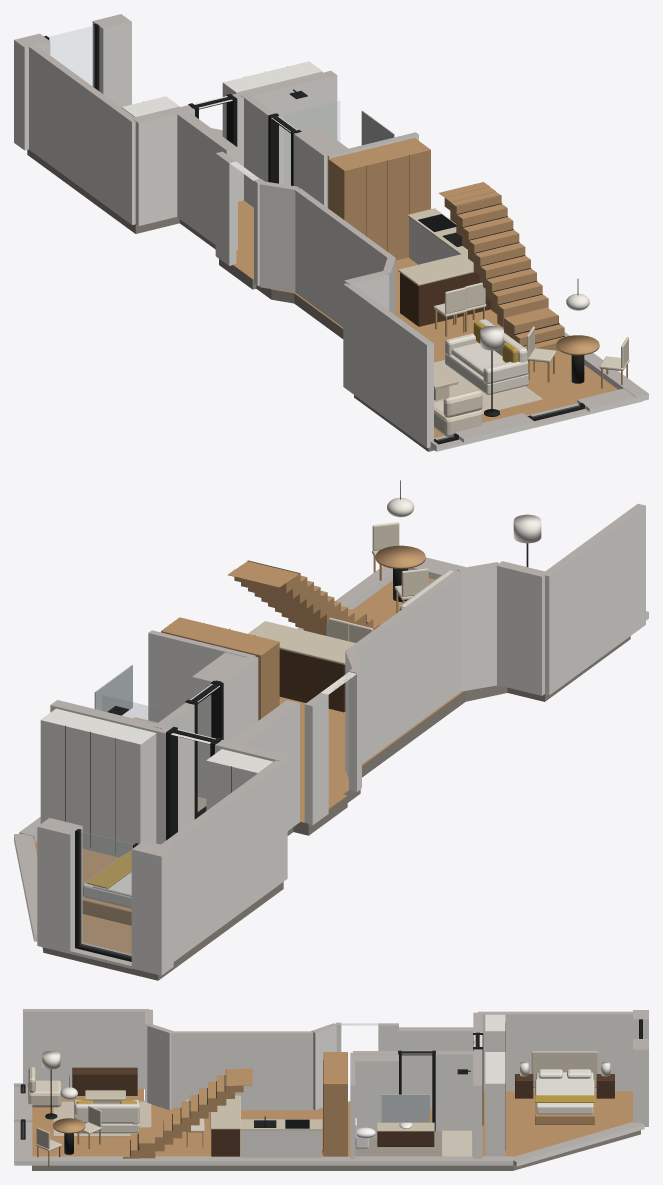
The picture shows the model from 3 angles, top to bottom: view 1: azimuth 30°, elevation 25°; view 2: azimuth 150°, elevation 25°; view 3: azimuth 270°, elevation 25°; orthographic projection. The views are drawn at different scales.
Parts seen in each view (by area): view 1: Wall W-bed1, Wall W-living, Kitchen tall units | body, Wall stairwell-2, Floor | living, Wall bed1-S.001, Wall lift-E, Wall bed1-S, Wall stairwell-1, Wall N-facade.001, Peninsula | body, Wall entry (+38 smaller); view 2: Wall W-bed1, bed1 wardrobe 2 | body, Wall W-living, Wall stairwell-2, Wall stairwell-4, N-facade window 0 | glazing, Wall N-facade, Wall N-facade.001, Wall stairwell-3, Wall shaft, Wall bath1-S, Kitchen tall units | body (+24 smaller); view 3: Wall stairwell-2, Wall W-living, Wall W-bed1, Wall E-party, Floor | living, Floor | bed1, Wall lift-E, Wall bath1-W, Wall shaft, Kitchen tall units | body, Kitchen run | bases, bed1 wardrobe 2 | body (+50 smaller).
Part boxes in pixels (x1,y1,x2,y2): Wall W-bed1: (29, 45, 135, 224); Wall W-living: (343, 283, 433, 447); Kitchen tall units | body: (328, 138, 430, 260); Wall stairwell-2: (295, 188, 394, 327); Floor | living: (270, 257, 617, 437); Wall bed1-S.001: (232, 70, 337, 201); Wall lift-E: (177, 111, 237, 250); Wall bed1-S: (133, 105, 194, 225); Wall stairwell-1: (259, 181, 298, 292); Wall N-facade.001: (92, 14, 131, 107); Peninsula | body: (400, 272, 491, 326); Wall entry: (215, 151, 236, 265); Wall W-bed1: (161, 758, 287, 961); bed1 wardrobe 2 | body: (40, 708, 156, 857); Wall W-living: (544, 503, 645, 695); Wall stairwell-2: (346, 570, 461, 763); Wall stairwell-4: (496, 561, 548, 695); N-facade window 0 | glazing: (80, 831, 133, 956); Wall N-facade: (131, 840, 173, 975); Wall N-facade.001: (37, 818, 82, 953); Wall stairwell-3: (457, 562, 498, 691); Wall shaft: (192, 652, 258, 798); Wall bath1-S: (148, 630, 255, 722); Kitchen tall units | body: (161, 617, 279, 720); Wall stairwell-2: (171, 1031, 313, 1110); Wall W-living: (23, 1009, 148, 1089); Wall W-bed1: (478, 1011, 632, 1091); Wall E-party: (14, 1156, 513, 1165); Floor | living: (32, 1088, 350, 1156); Floor | bed1: (482, 1091, 632, 1156); Wall lift-E: (399, 1027, 473, 1108); Wall bath1-W: (435, 1051, 477, 1131); Wall shaft: (355, 1054, 398, 1138); Kitchen tall units | body: (323, 1052, 347, 1156); Kitchen run | bases: (240, 1130, 321, 1157); bed1 wardrobe 2 | body: (485, 1052, 505, 1156).
Size of the model in its own units: 4.69 by 2.33 by 15.6.
